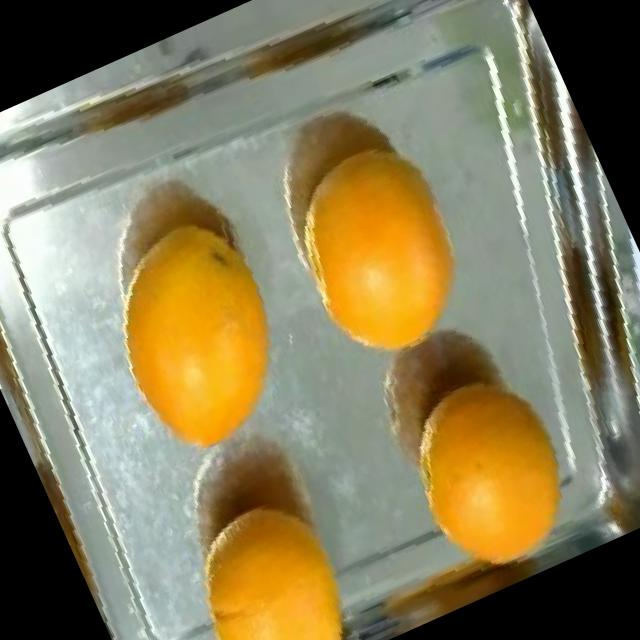Fruit: (81, 218, 332, 488), (372, 334, 618, 606), (158, 469, 384, 640)
